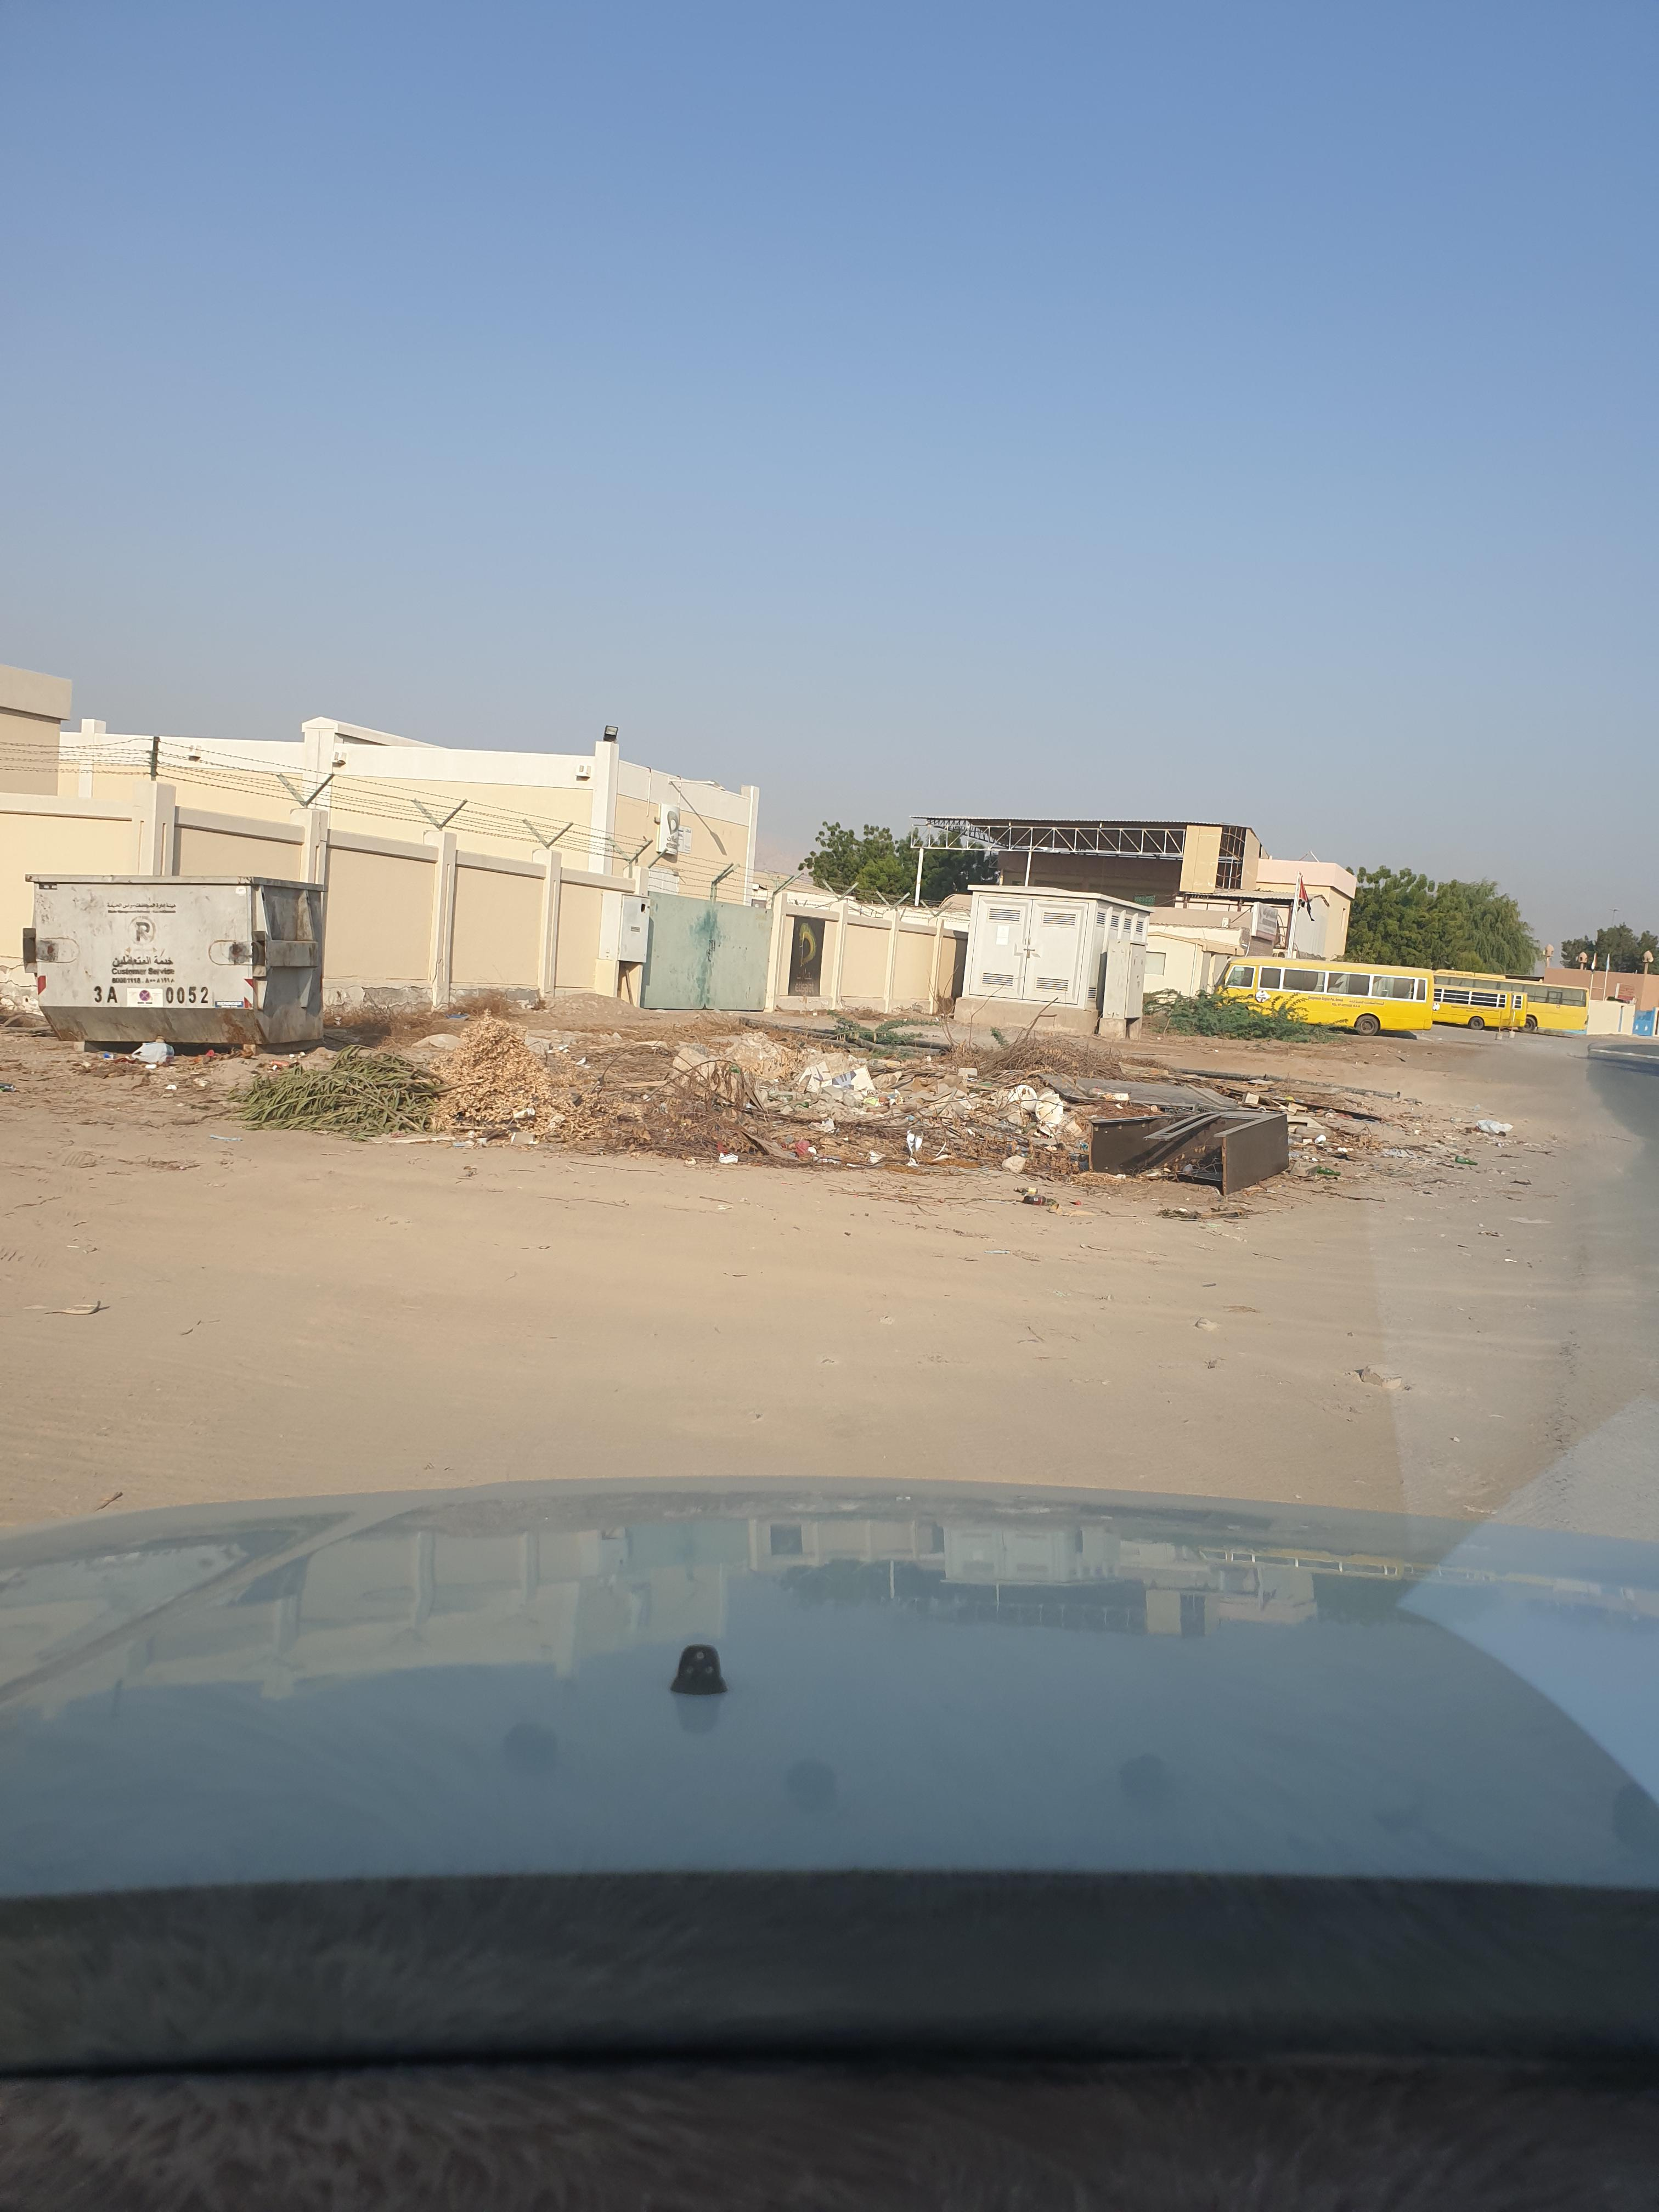fallen_trees: (282, 1042, 563, 1169), (437, 1001, 605, 1141), (845, 1122, 1016, 1247), (744, 1080, 906, 1211), (631, 1059, 777, 1193), (167, 1068, 399, 1151), (965, 1087, 1093, 1212)
